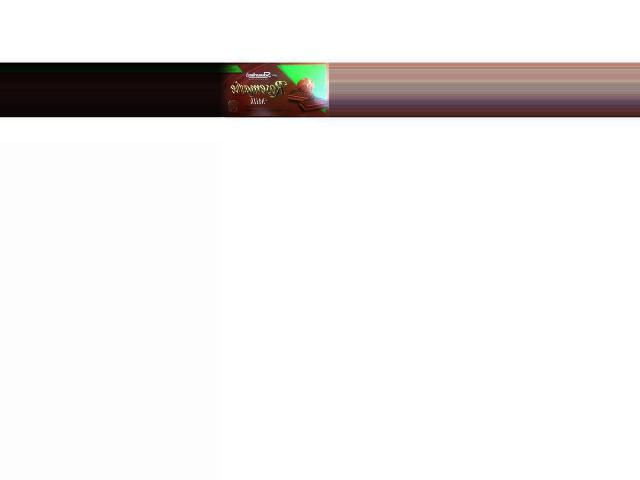chocolate: (217, 64, 327, 116)
